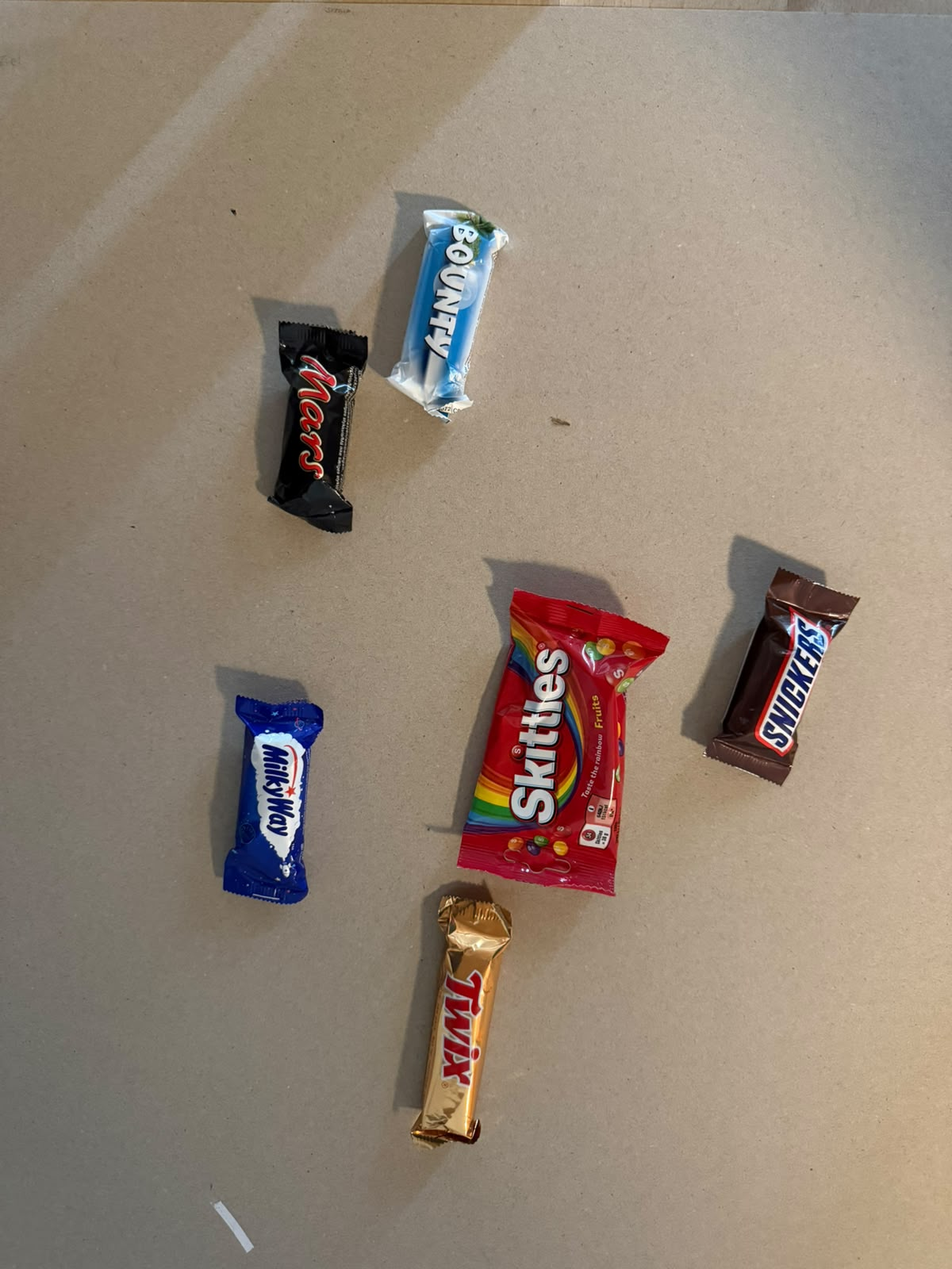Bounty: (424, 150, 519, 420)
Mars: (266, 300, 368, 536)
MilkyWay: (225, 676, 330, 918)
Skittles: (452, 570, 688, 876)
Snickers: (753, 509, 904, 802)
Twix: (449, 877, 527, 1156)
